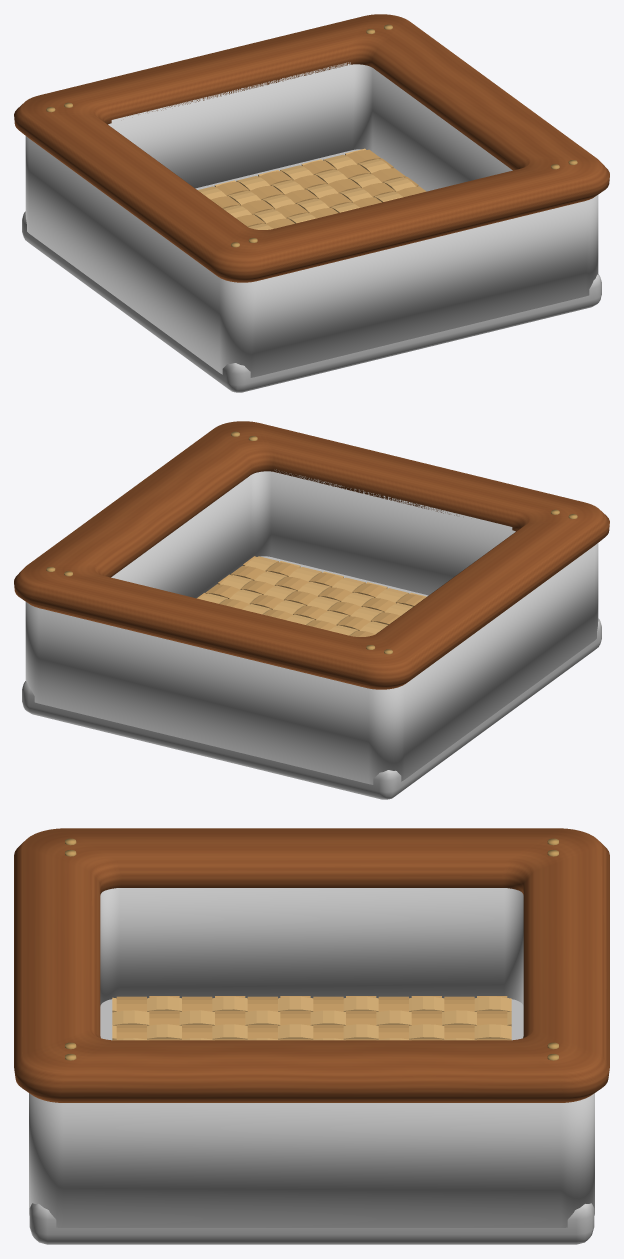
The model's file is basket_redwood.fbx.
3 views of the same model, one above another, from view 1: azimuth 30°, elevation 25°; view 2: azimuth 150°, elevation 25°; view 3: azimuth 270°, elevation 25° (orthographic). The views are drawn at different scales.
Parts seen in each view (by area): view 1: wooden-shell, rolled-rim, woven-floor; view 2: wooden-shell, rolled-rim, woven-floor; view 3: wooden-shell, rolled-rim, woven-floor, brass-fasteners.
Part boxes in pixels (x1,y1,x2,y2): wooden-shell: [22, 62, 601, 392]; rolled-rim: [14, 14, 609, 282]; woven-floor: [197, 148, 426, 229]; wooden-shell: [22, 469, 601, 799]; rolled-rim: [14, 421, 609, 689]; woven-floor: [197, 556, 426, 636]; wooden-shell: [29, 888, 594, 1244]; rolled-rim: [14, 828, 609, 1102]; woven-floor: [112, 996, 511, 1040]; brass-fasteners: [65, 838, 558, 1060].
Bounding box in the file's own units: 100 × 33.85 × 100.
